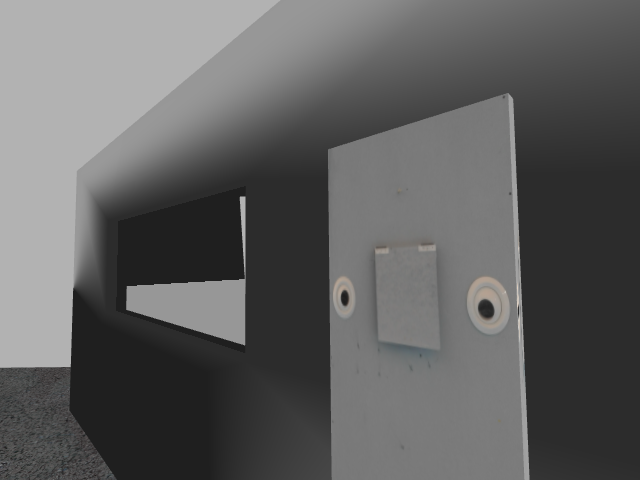facade: (331, 242, 513, 355)
